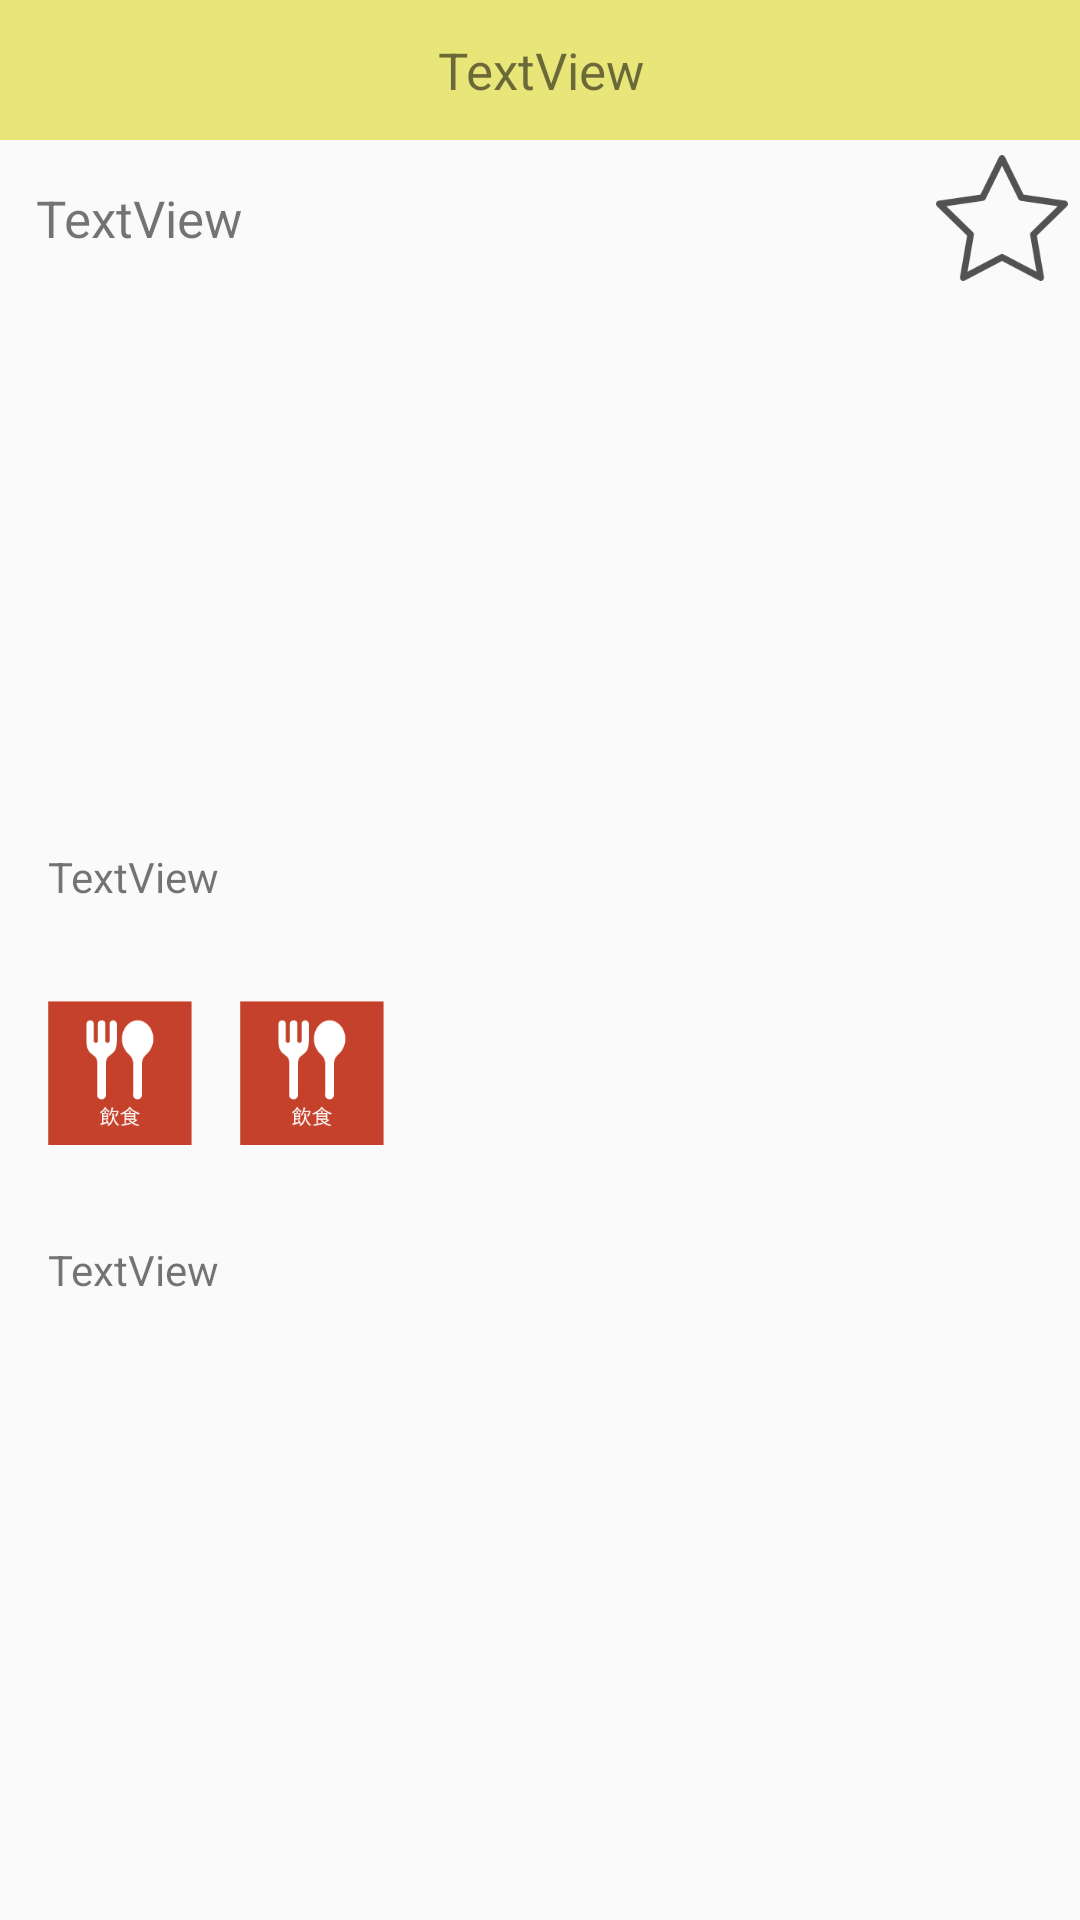

Screen size 1080 x 1920. Icon name, then its center in pixels as point (x, y):
favo: point (1002, 218)
genre: point (120, 1073), point (312, 1073)
